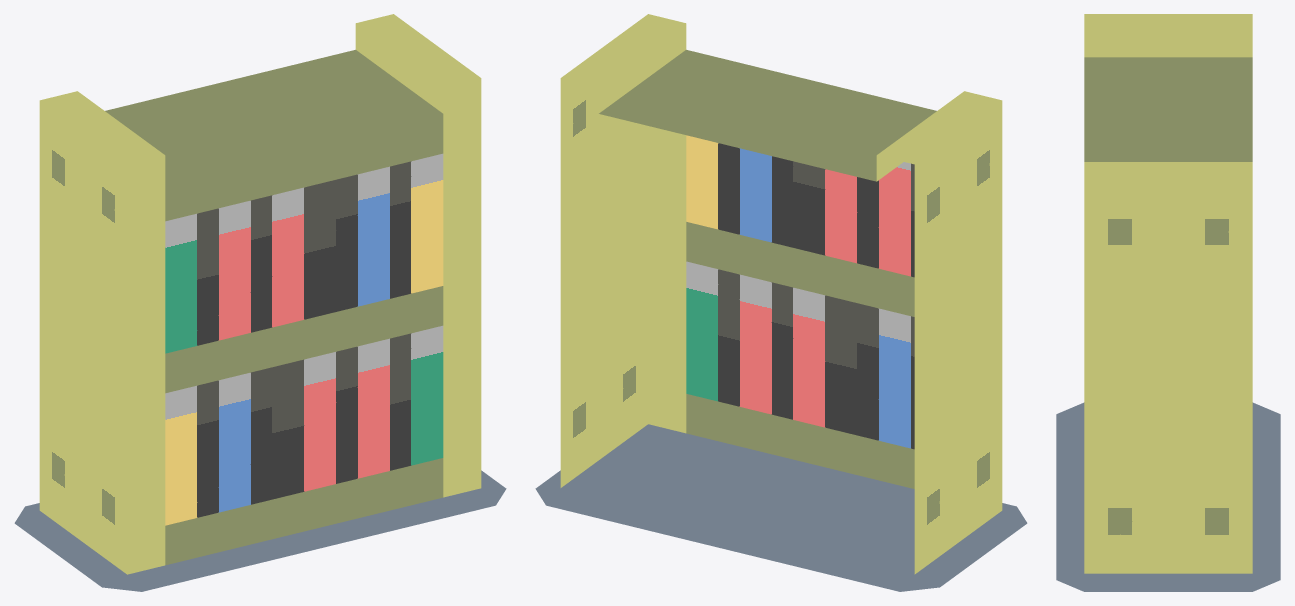
3 views of the same model, side by side, from view 1: azimuth 30°, elevation 25°; view 2: azimuth 150°, elevation 25°; view 3: azimuth 270°, elevation 25° (orthographic). The views are drawn at different scales.
Visible parts, largest first — view 1: 01_polygon0, 00_polygon1; view 2: 01_polygon0, 00_polygon1; view 3: 01_polygon0, 00_polygon1.
Part boxes in pixels (x1,y1,x2,y2): 01_polygon0: (39, 14, 481, 574); 00_polygon1: (14, 470, 506, 591); 01_polygon0: (560, 14, 1002, 574); 00_polygon1: (535, 424, 1027, 591); 01_polygon0: (1084, 14, 1252, 573); 00_polygon1: (1056, 402, 1280, 591).
Bounding box in the file's own units: 0.25 × 0.2461 × 0.125.
1 material, 1 textured.
